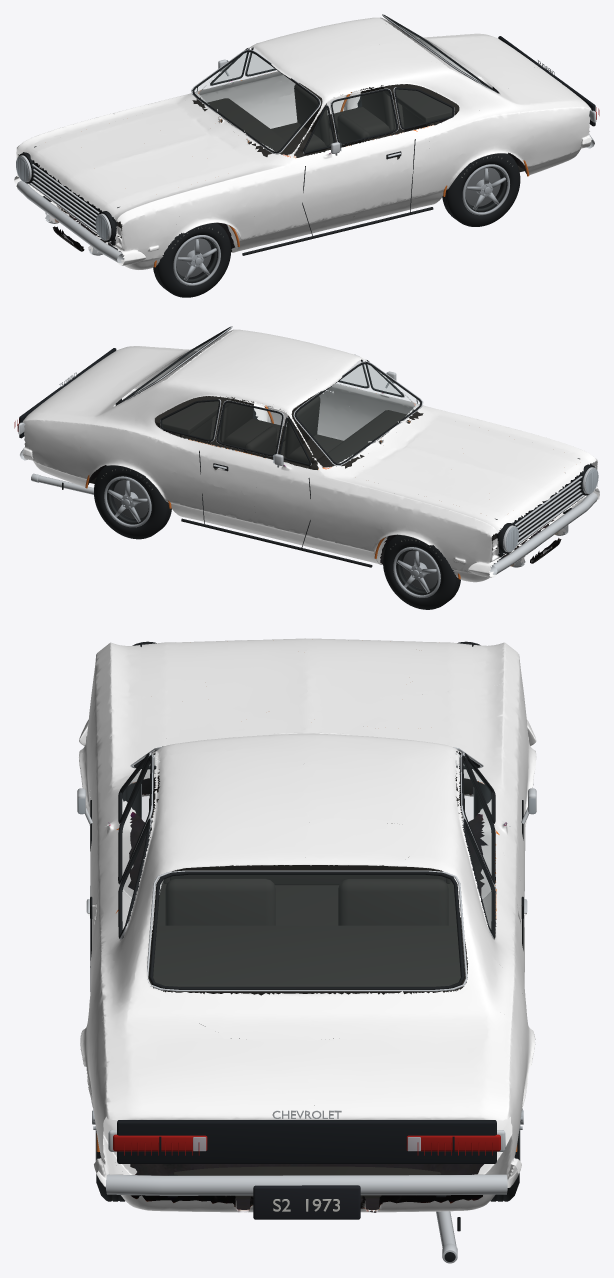
The model's file is chevy-lod0.glb.
The picture shows the model from 3 angles, top to bottom: view 1: azimuth 30°, elevation 25°; view 2: azimuth 150°, elevation 25°; view 3: azimuth 270°, elevation 25°; orthographic projection. The views are drawn at different scales.
Visible parts, largest first — view 1: chevy_Body_paint, chevy_Hood_paint, chevy_static_Vehicle_Glass, chevy_static_Vehicle_Rubber, chevy_CabinSeats_Vehicle_Interior, chevy_static_Vehicle_Chrome, chevy_static_Vehicle_Interior, chevy_Wheel_rearRight_RadialTire, chevy_Wheel_frontRight_RadialTire, chevy_wheel_frontRight_Vehicle_WheelMetal, chevy_wheel_rearRight_Vehicle_WheelMetal, chevy_Body_trim (+4 smaller); view 2: chevy_Body_paint, chevy_Hood_paint, chevy_static_Vehicle_Glass, chevy_static_Vehicle_Rubber, chevy_CabinSeats_Vehicle_Interior, chevy_static_Vehicle_Chrome, chevy_static_Vehicle_Interior, chevy_Wheel_rearLeft_RadialTire, chevy_Wheel_frontLeft_RadialTire, chevy_wheel_frontLeft_Vehicle_WheelMetal, chevy_wheel_rearLeft_Vehicle_WheelMetal, chevy_Body_trim (+4 smaller); view 3: chevy_Body_paint, chevy_static_Vehicle_Glass, chevy_Hood_paint, chevy_static_Vehicle_Interior, chevy_static_Vehicle_SatinStripe, chevy_static_Vehicle_Chrome, chevy_CabinSeats_Vehicle_Interior, chevy_static_Vehicle_Rubber, chevy_Body_trim, chevy_Plate, chevy_static_Vehicle_BrakeLens.
Boxes of the visible parts, <box> form: chevy_Body_paint: <box>14,17,591,269</box>; chevy_Hood_paint: <box>32,101,267,209</box>; chevy_static_Vehicle_Glass: <box>194,25,481,151</box>; chevy_static_Vehicle_Rubber: <box>19,14,498,255</box>; chevy_CabinSeats_Vehicle_Interior: <box>271,83,434,159</box>; chevy_static_Vehicle_Chrome: <box>16,14,596,262</box>; chevy_static_Vehicle_Interior: <box>117,84,524,238</box>; chevy_Wheel_rearRight_RadialTire: <box>442,153,520,226</box>; chevy_Wheel_frontRight_RadialTire: <box>153,222,231,297</box>; chevy_wheel_frontRight_Vehicle_WheelMetal: <box>173,235,220,285</box>; chevy_wheel_rearRight_Vehicle_WheelMetal: <box>462,164,509,215</box>; chevy_Body_trim: <box>49,71,526,254</box>; chevy_Body_paint: <box>22,329,599,582</box>; chevy_Hood_paint: <box>346,413,582,521</box>; chevy_static_Vehicle_Glass: <box>131,336,419,462</box>; chevy_static_Vehicle_Rubber: <box>62,326,595,567</box>; chevy_CabinSeats_Vehicle_Interior: <box>179,395,343,469</box>; chevy_static_Vehicle_Chrome: <box>18,326,597,574</box>; chevy_static_Vehicle_Interior: <box>89,396,496,550</box>; chevy_Wheel_rearLeft_RadialTire: <box>94,465,171,539</box>; chevy_Wheel_frontLeft_RadialTire: <box>383,534,460,609</box>; chevy_wheel_frontLeft_Vehicle_WheelMetal: <box>393,547,440,597</box>; chevy_wheel_rearLeft_Vehicle_WheelMetal: <box>104,476,151,527</box>; chevy_Body_trim: <box>88,388,567,566</box>; chevy_Body_paint: <box>79,638,536,1212</box>; chevy_static_Vehicle_Glass: <box>121,754,492,986</box>; chevy_Hood_paint: <box>141,639,472,772</box>; chevy_static_Vehicle_Interior: <box>148,772,468,1198</box>; chevy_static_Vehicle_SatinStripe: <box>117,1120,496,1163</box>; chevy_static_Vehicle_Chrome: <box>85,747,528,1247</box>; chevy_CabinSeats_Vehicle_Interior: <box>165,878,448,1038</box>; chevy_static_Vehicle_Rubber: <box>90,641,523,1261</box>; chevy_Body_trim: <box>108,777,506,1212</box>; chevy_Plate: <box>253,1185,360,1219</box>; chevy_static_Vehicle_BrakeLens: <box>113,1134,500,1155</box>.
Bounding box in the file's own units: 1.91 × 0.5922 × 0.771.
Materials: 17 (1 with a texture image).
